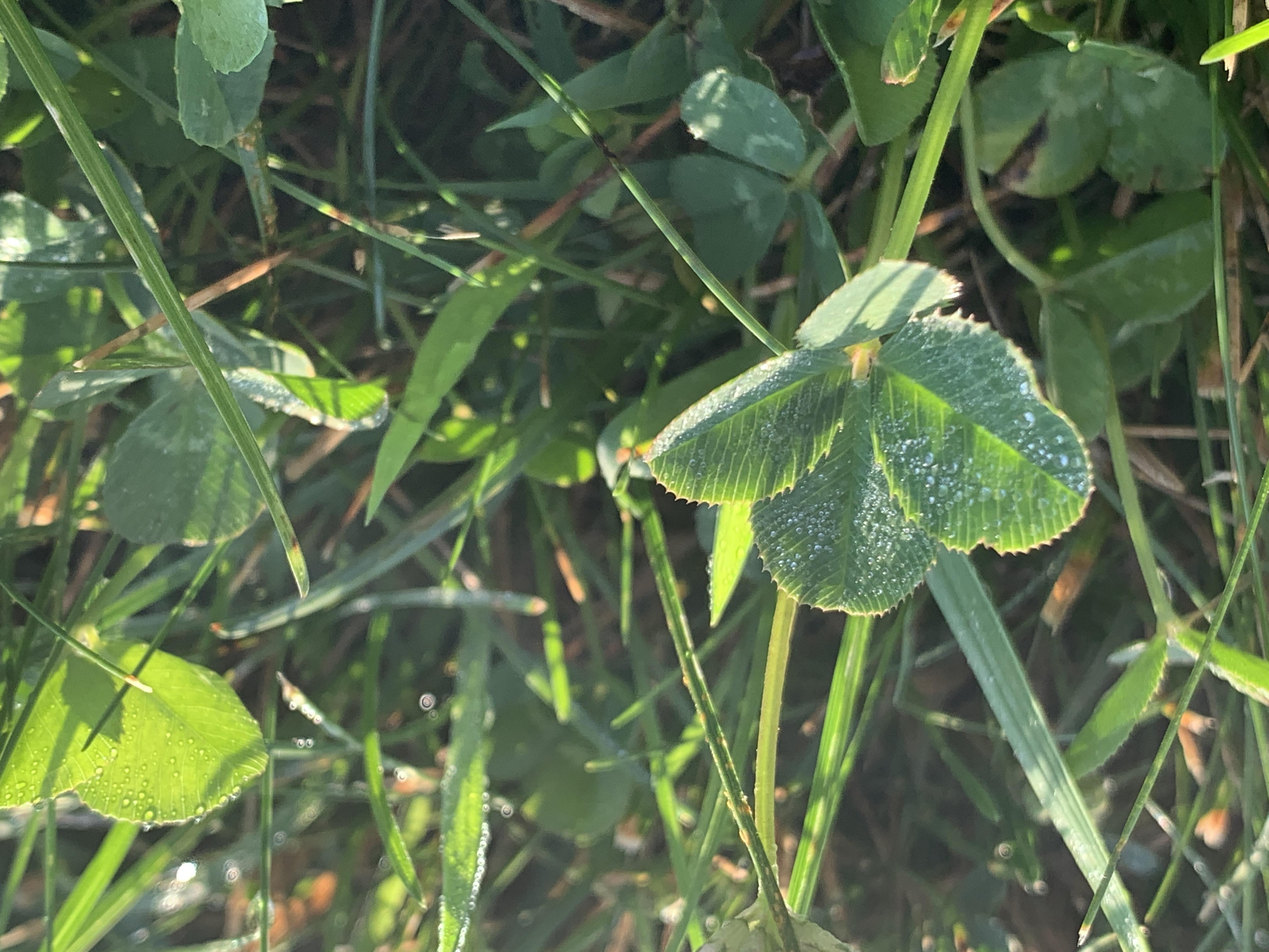4-Leaf-Clovers: (173, 332, 623, 692)
